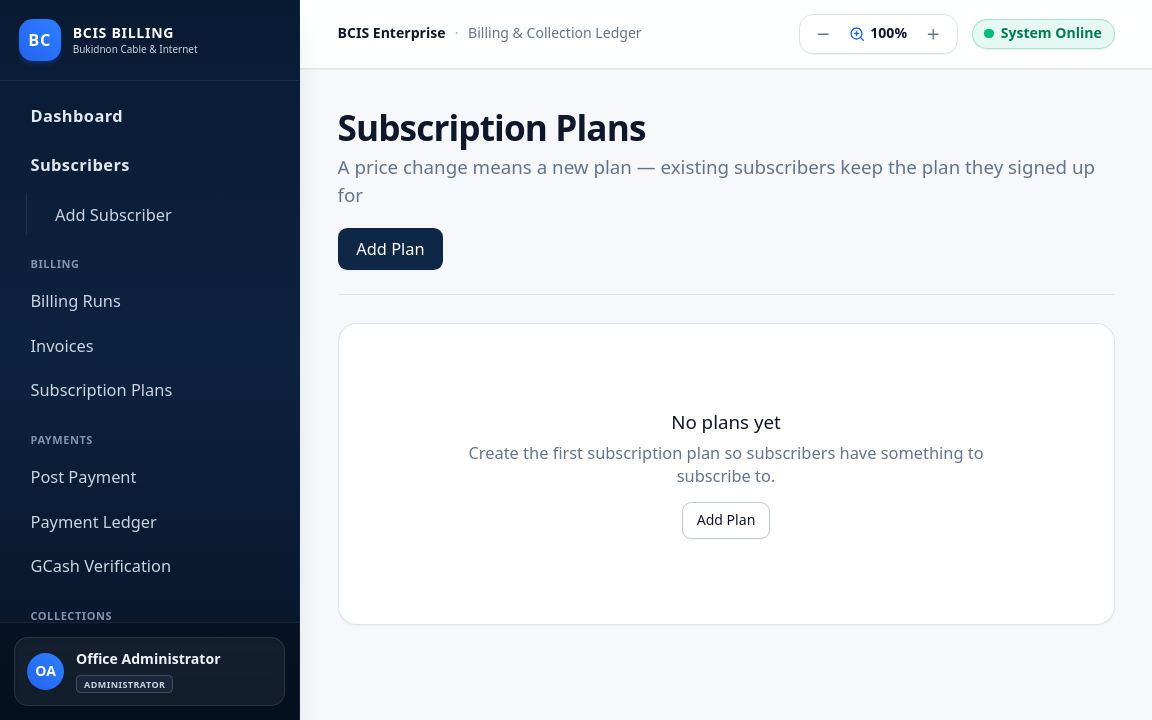
Test: PlanManagementPage › refuses a negative monthly rate with the message the server would give
Click the 1st button "Add Plan".
click(390, 249)  # box x1=338 y1=228 x2=443 y2=270
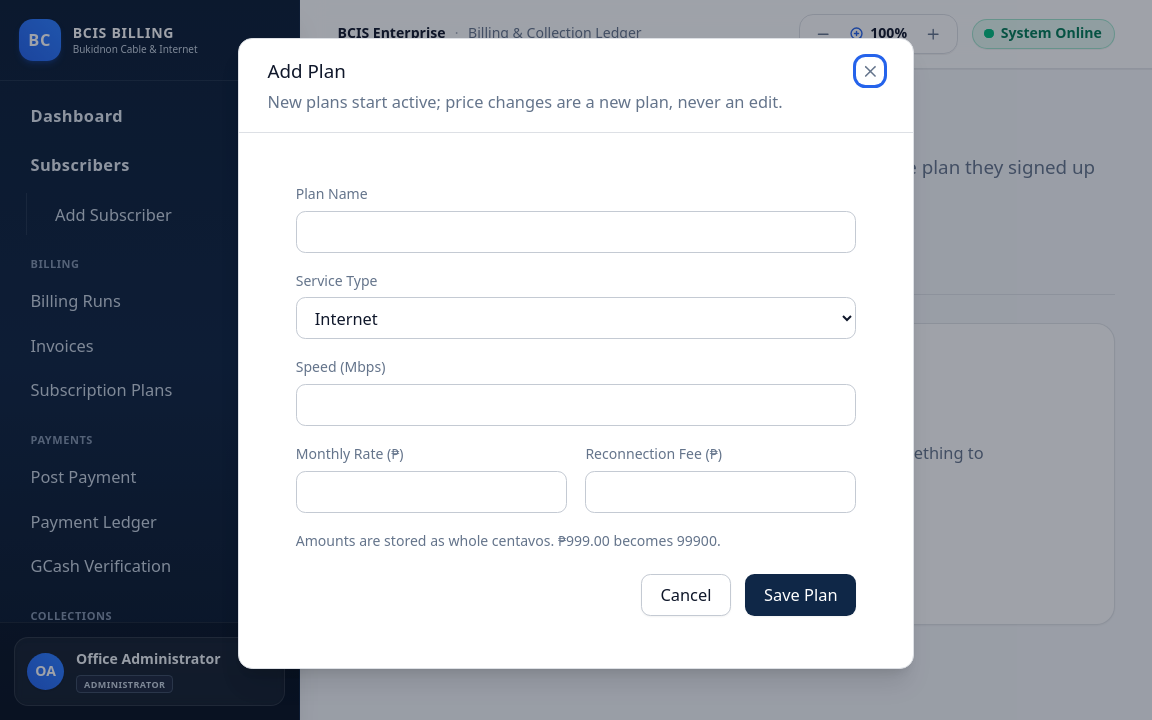
Check: the dialog "Add Plan" is shown, box x1=238 y1=38 x2=914 y2=668
Type "Fiber 100" into the field labelled "Plan Name".
click(576, 232); type("Fiber 100")  # box x1=296 y1=211 x2=856 y2=253
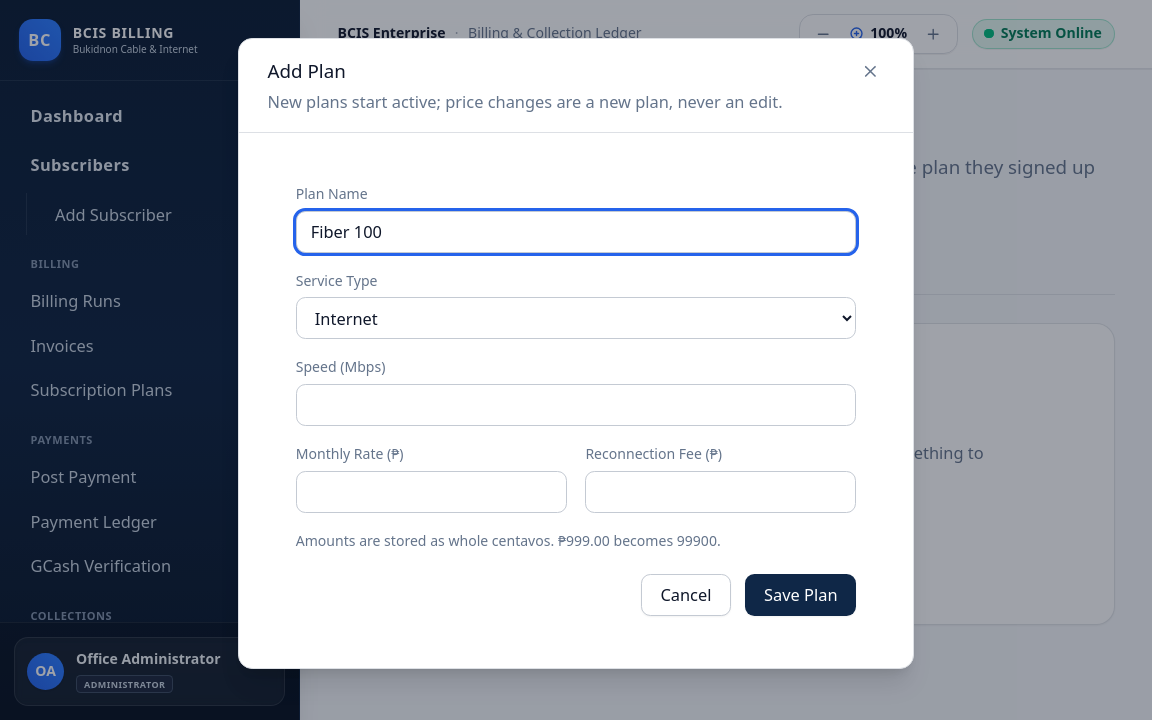
Type "-5" into the number field labelled "Monthly Rate (₱)".
click(431, 492); type("-5")  # box x1=296 y1=471 x2=567 y2=513
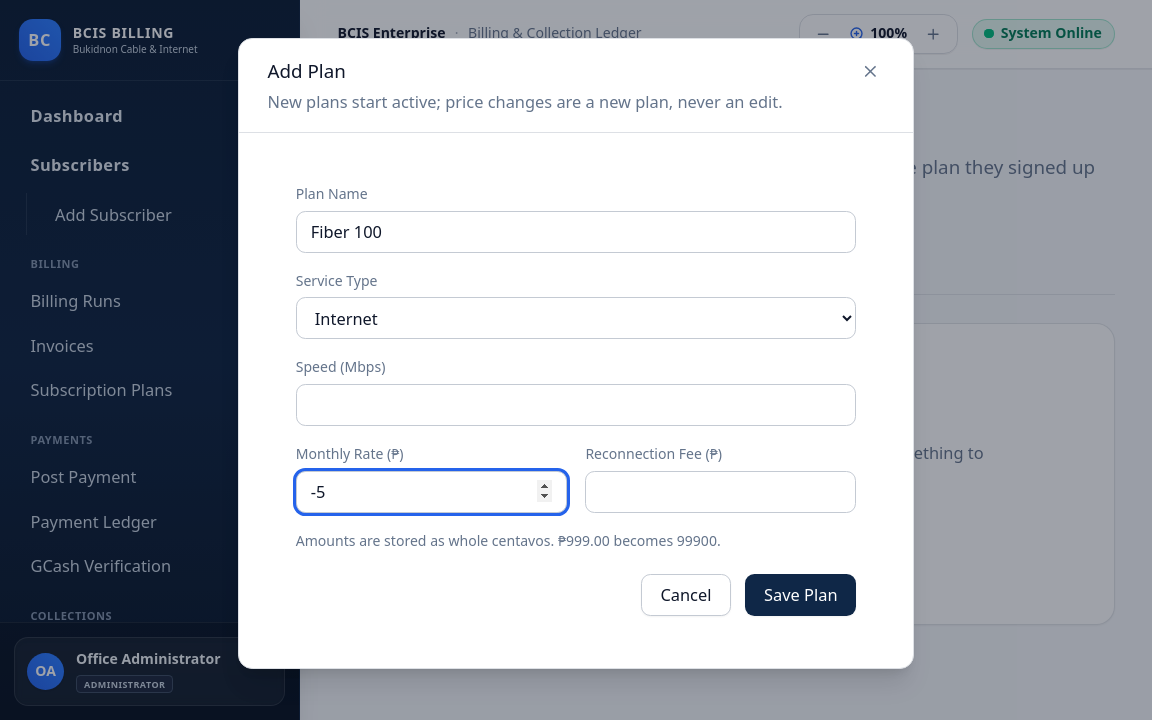
Click the button "Save Plan".
click(801, 595)  # box x1=745 y1=574 x2=856 y2=616
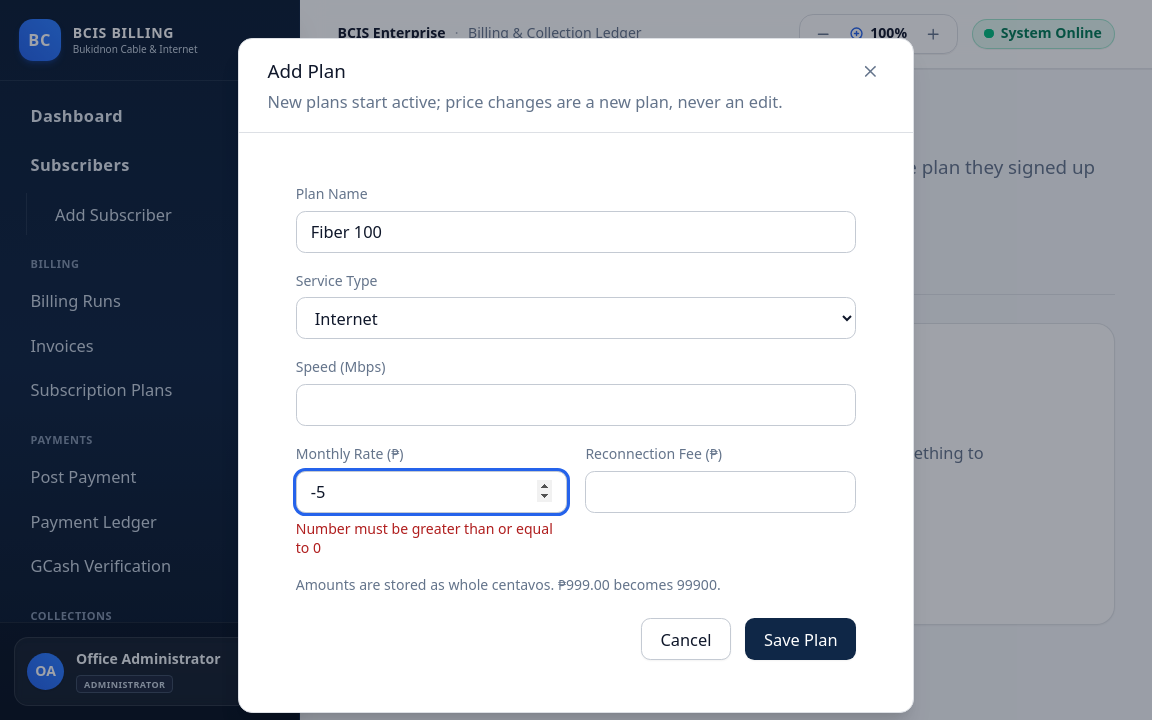
Check: the message "Number must be greater than or equal to 0" is shown, box x1=296 y1=520 x2=567 y2=557
